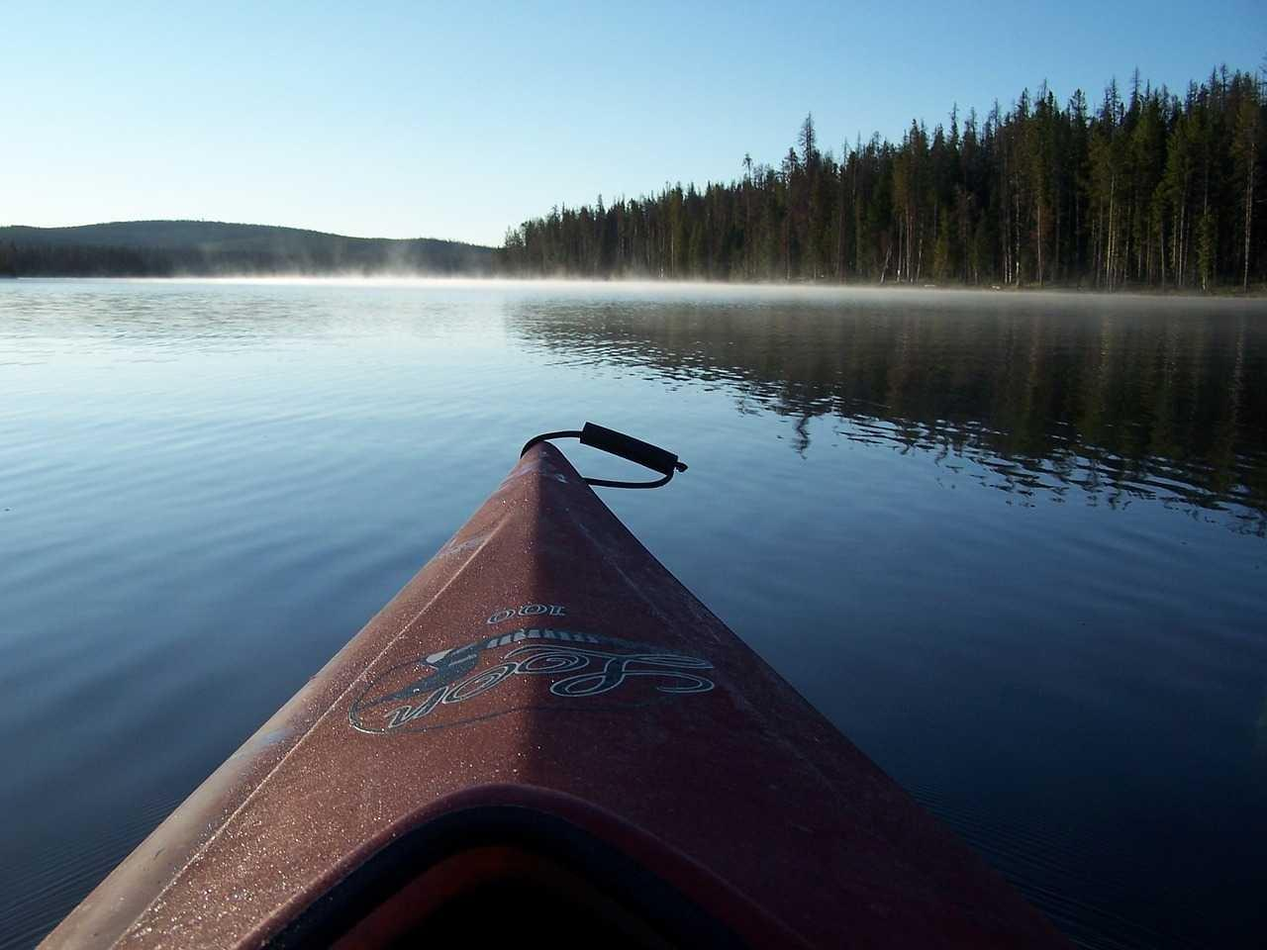kayak: (40, 419, 1060, 947)
